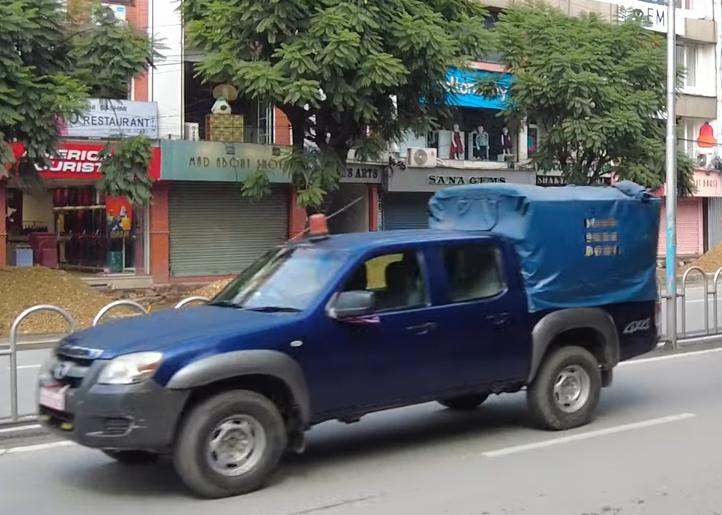police_vehicle: (34, 169, 666, 502)
